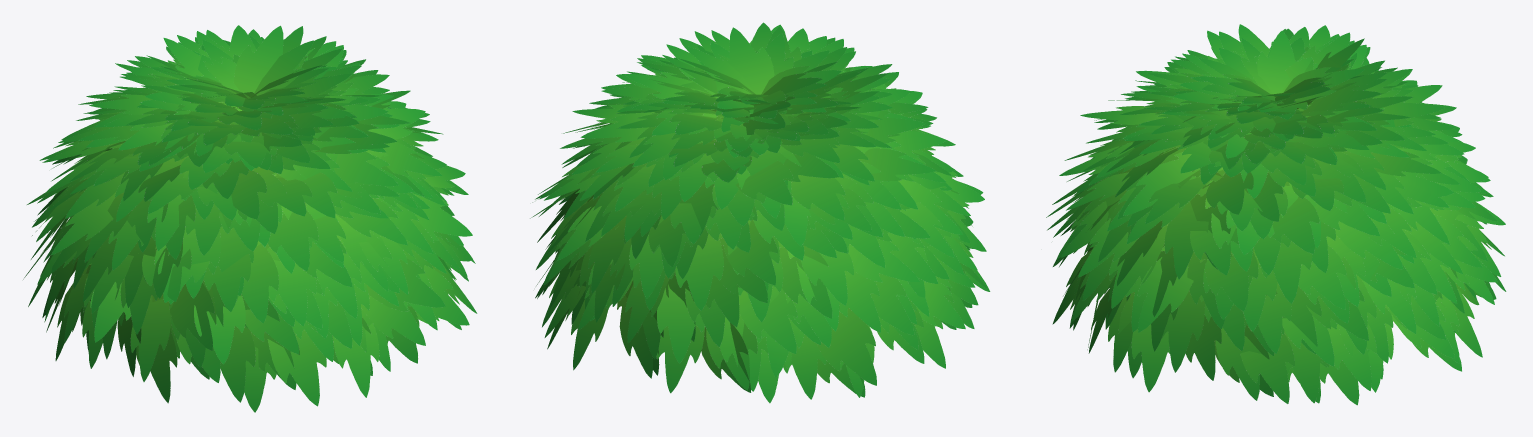
File: BushSimple.fbx
3 renders of one model, left to right at view 1: azimuth 30°, elevation 25°; view 2: azimuth 150°, elevation 25°; view 3: azimuth 270°, elevation 25°, orthographic.
Parts seen in each view (by area): view 1: BushSimple_LOD00; view 2: BushSimple_LOD00; view 3: BushSimple_LOD00.
Boxes of the visible parts, x1,y1,x2,y2 form: BushSimple_LOD00: [23, 25, 477, 412]; BushSimple_LOD00: [530, 22, 990, 403]; BushSimple_LOD00: [1046, 24, 1506, 405].
Size of what is drawn, in the model's own units: 151 by 102 by 153.
